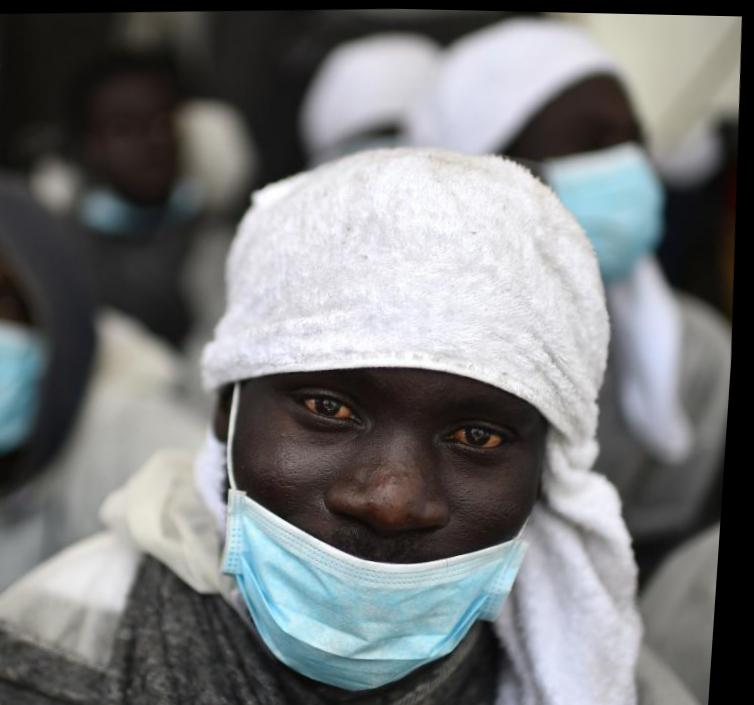WRONG: (231, 344, 575, 676)
